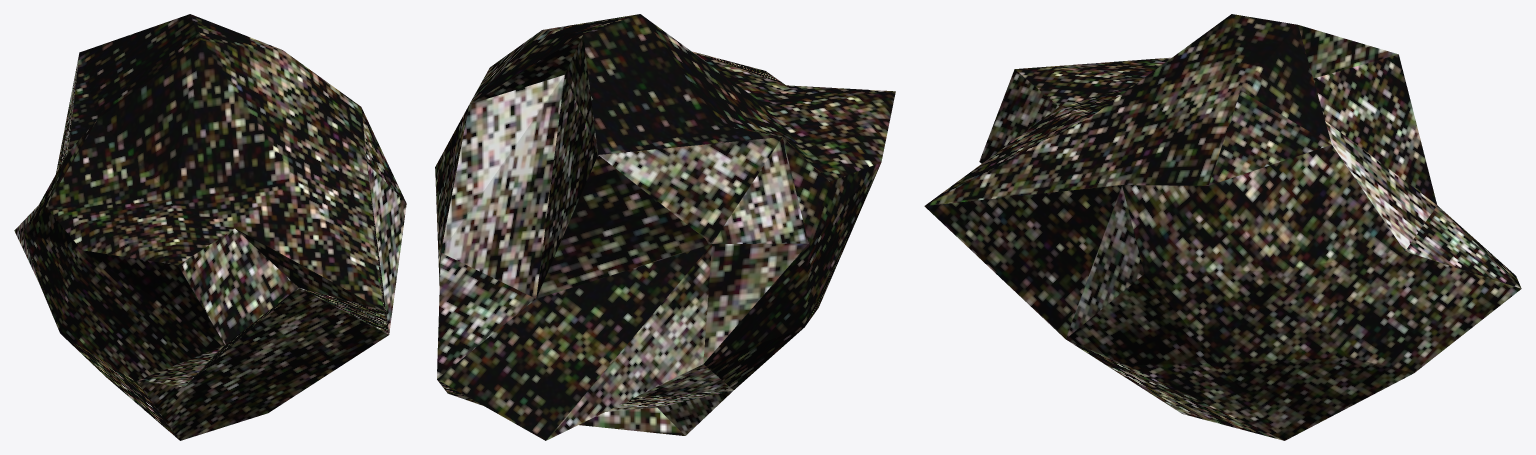
Rendered from Stone2.FBX.
The picture shows the model from 3 angles, left to right: view 1: azimuth 30°, elevation 25°; view 2: azimuth 150°, elevation 25°; view 3: azimuth 270°, elevation 25°; orthographic projection. The views are drawn at different scales.
Parts seen in each view (by area): view 1: GeoSphere02; view 2: GeoSphere02; view 3: GeoSphere02.
Boxes of the visible parts, <box> form: GeoSphere02: <box>14,14,406,440</box>; GeoSphere02: <box>435,14,895,440</box>; GeoSphere02: <box>924,14,1521,440</box>.
Bounding box in the file's own units: 61.59 × 91.17 × 67.21.
